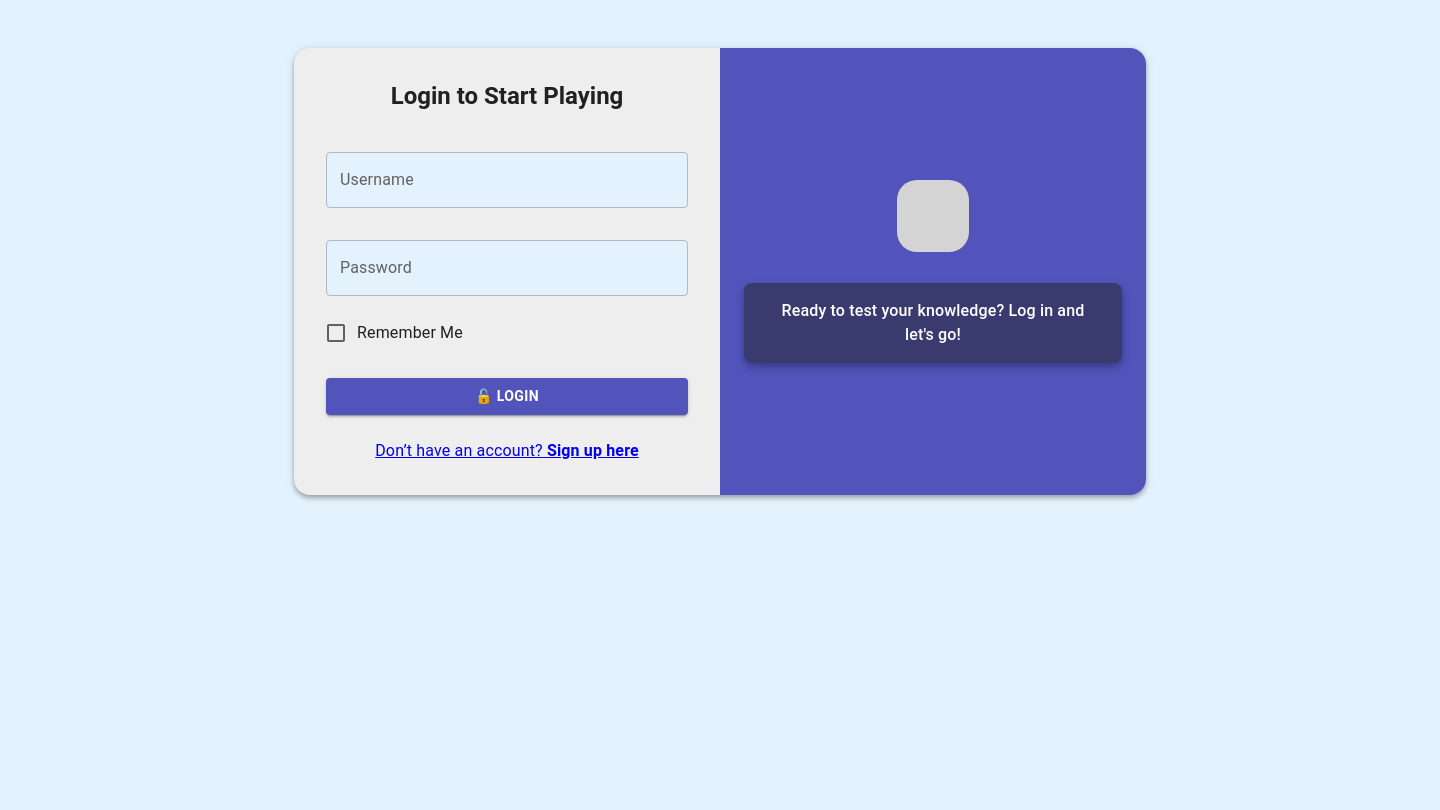
it: Login component › should log in successfully
In the field labelled "Username": (507, 180) [326,152,688,208], type "testUser"
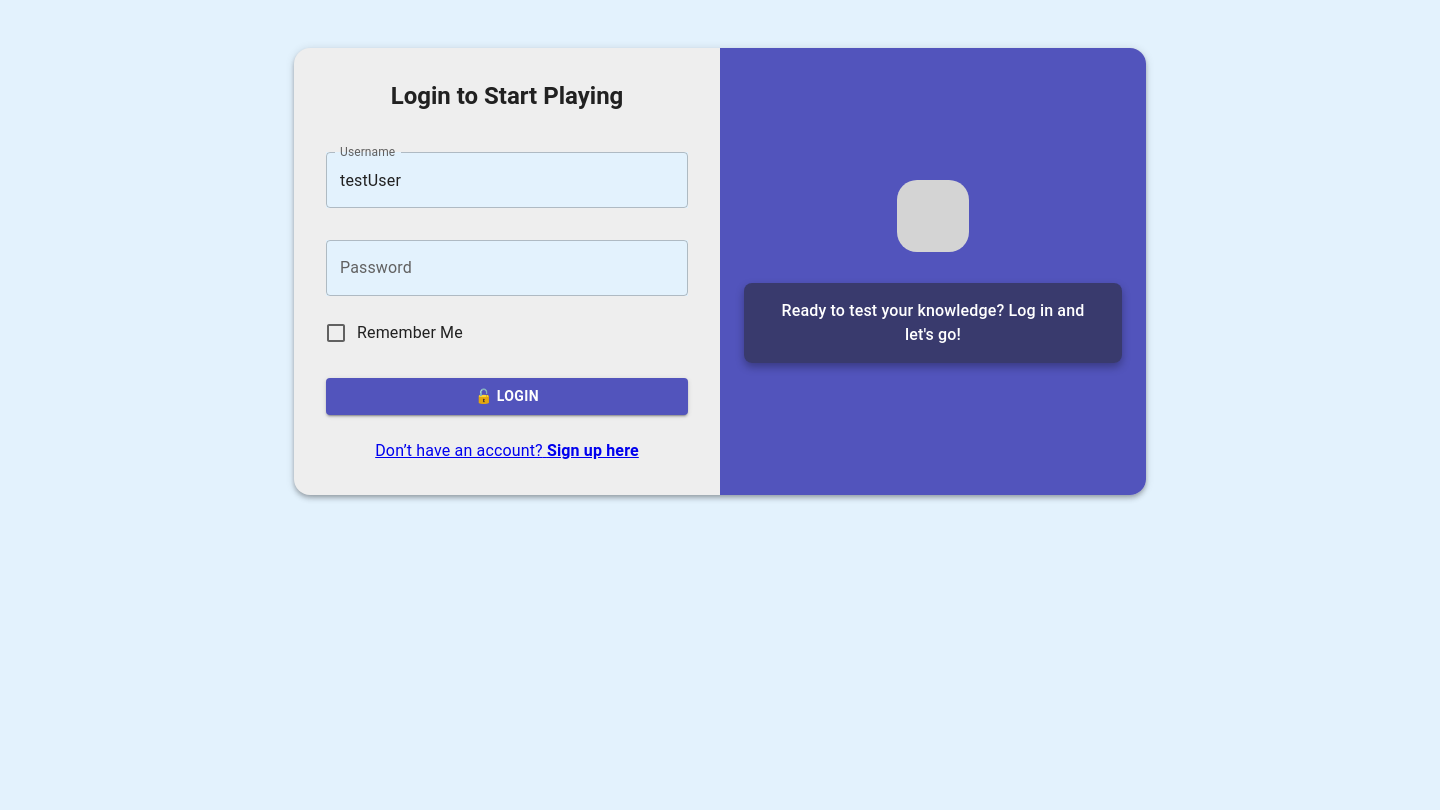
In the password field labelled "Password": (507, 268) [326,240,688,296], type "testPassword"
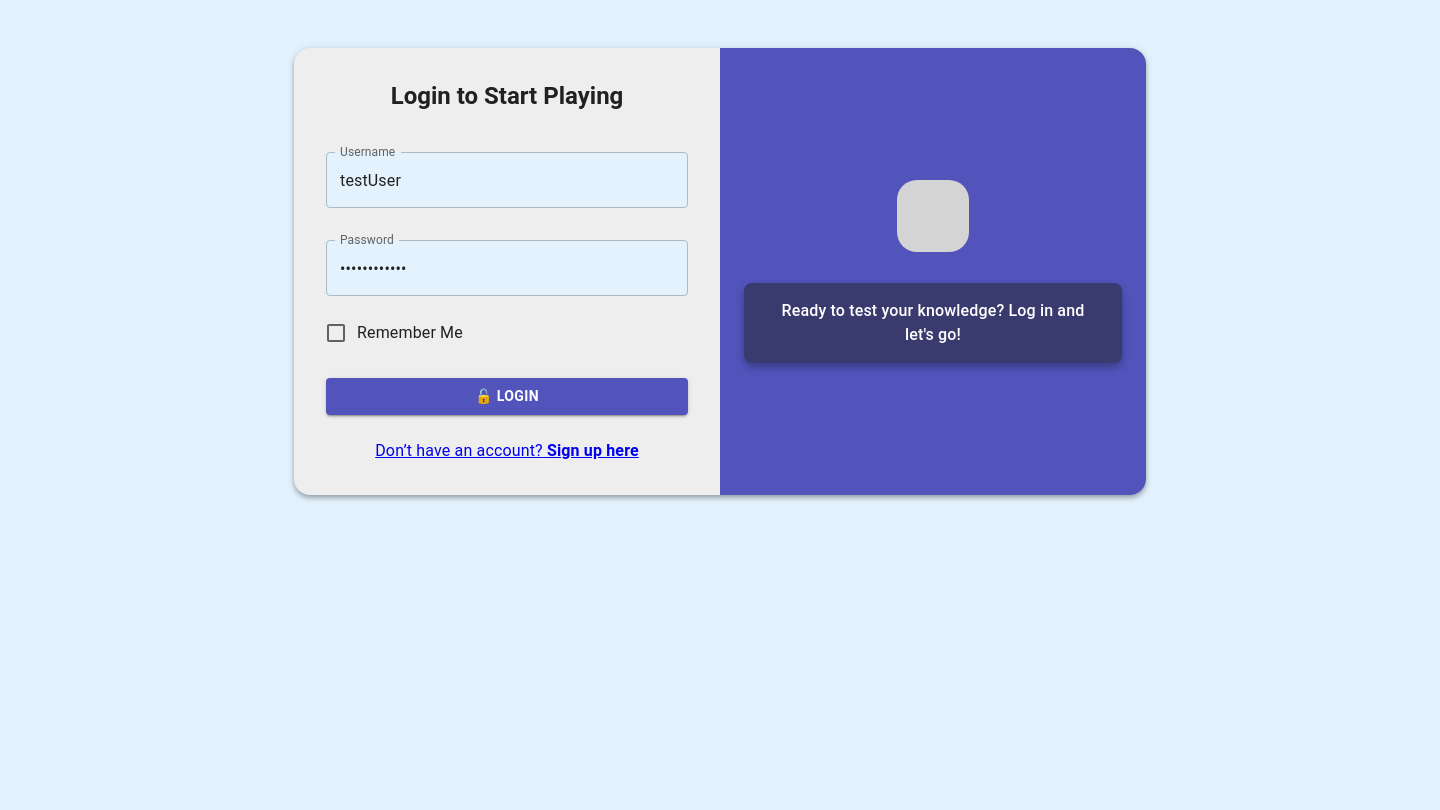
Click the button with test id "login-submit": (507, 396) [326,378,688,414]
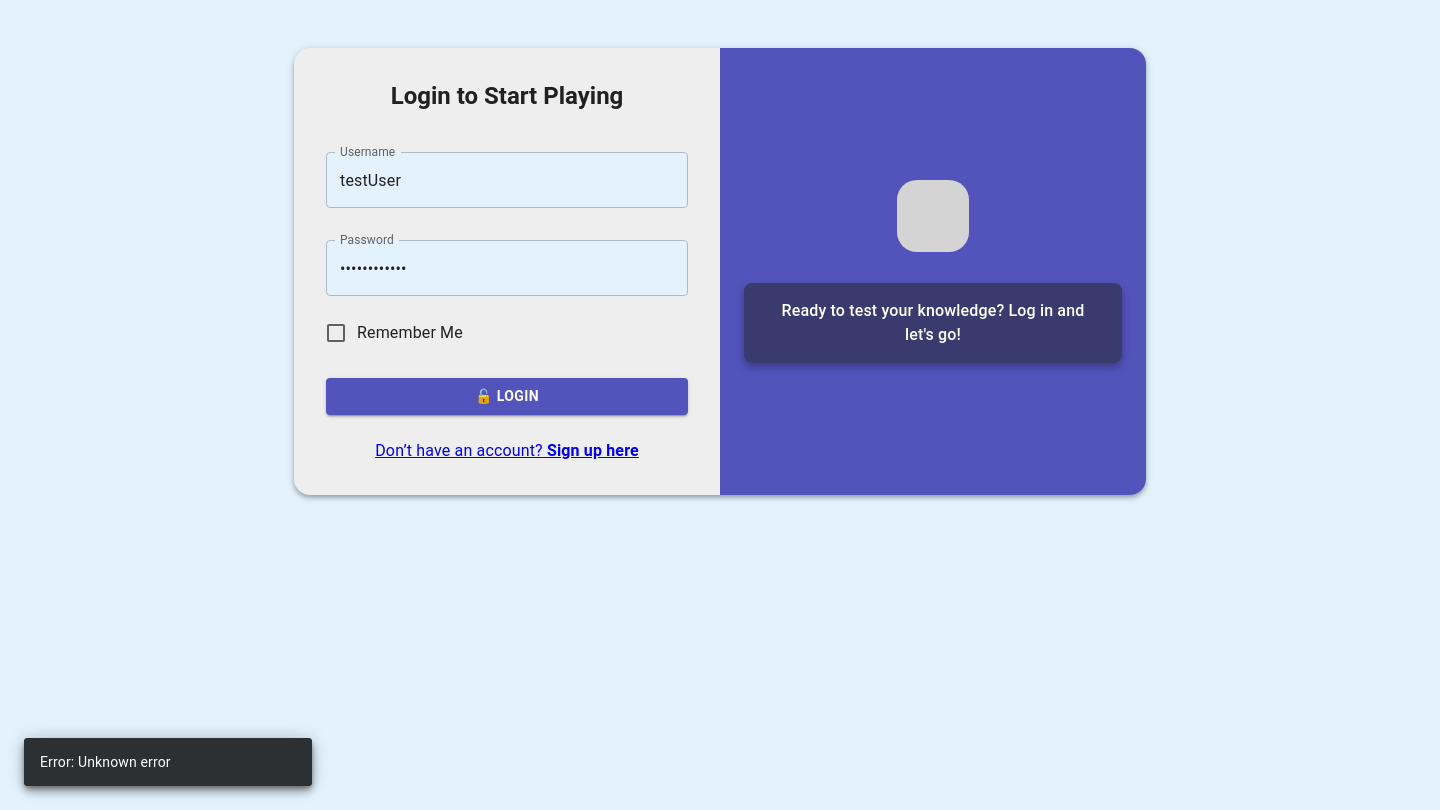
Expected: the text "Login successful" is shown, [40,754,148,770]
